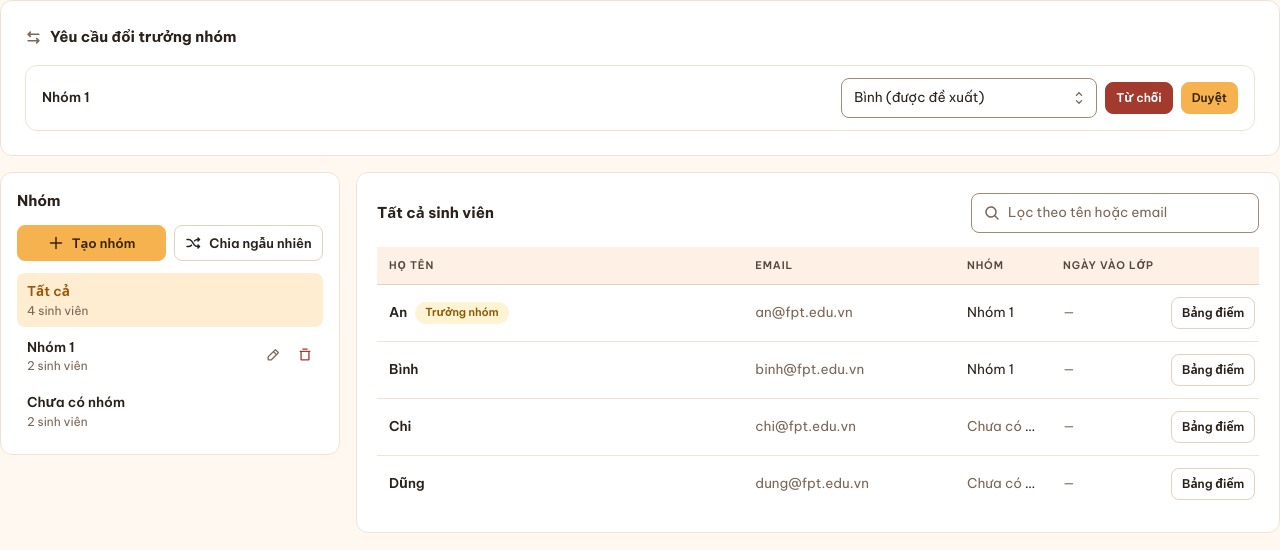
ClassGroupsPanel › thẻ Nhóm (Tất cả, từng nhóm, Chưa có nhóm) lọc bảng sinh viên chỉ để xem; báo trang lớp ẩn bảng của mình và báo tên nhóm, trưởng nhóm
This screenshot has width=1280, height=550.
Expected: the button named "Sửa Nhóm 1" is shown, [259,341,287,369]
Expected: the button named "Xóa Nhóm 1" is shown, [291,341,319,369]
Click the button "Nhóm 1 2 sinh viên": x=136, y=355 [17,329,255,382]
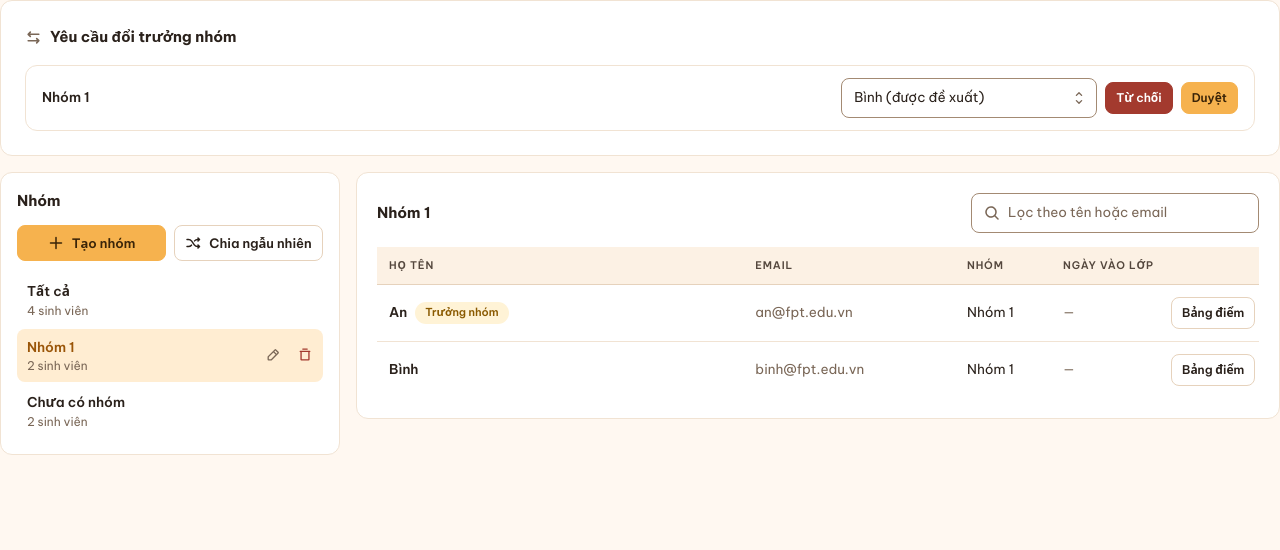
Now the heading "Nhóm 1" is shown, box [377,203,430,222]
Click the button "Tất cả 4 sinh viên": x=48, y=291 [17,273,319,327]
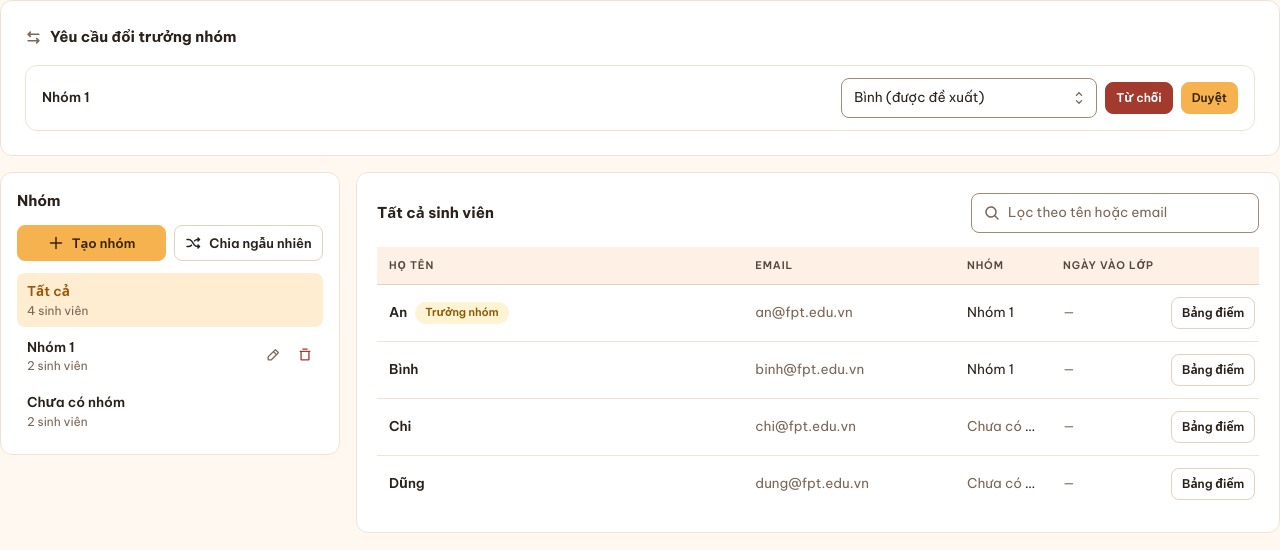
Now the text "Chi" is shown, box [389,416,412,438]
